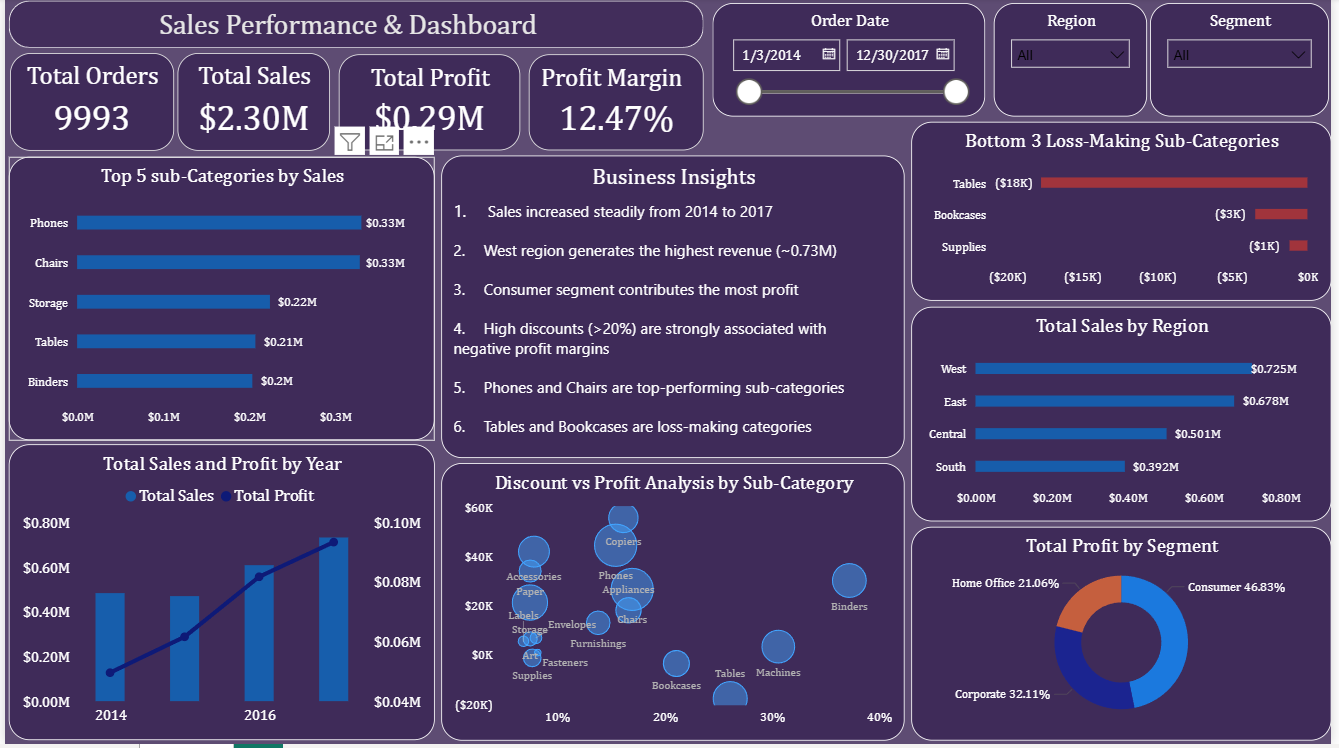

The page's visual inventory and layout, read from the dashboard file:
{"tool":"powerbi","page":{"name":"Page 1","canvas":[1280,720],"ordinal":0},"visuals":[{"type":"shape","box":[3.6,2.4,670.8,45.8],"z":0},{"type":"textbox","box":[22.9,4.8,616.5,44.6],"z":1000},{"type":"card","title":"Total Orders","fields":{"Values":["superstore dataset.Total Orders"]},"box":[4.8,53.1,158,94.1],"z":2000},{"type":"card","title":"Profit Margin","fields":{"Values":["superstore dataset.Profit Margin"]},"box":[505.5,54.3,168.9,92.9],"z":3000},{"type":"card","title":"Total Sales","fields":{"Values":["superstore dataset.Total Sales"]},"box":[166.5,53.1,147.2,94.1],"z":4000},{"type":"card","title":"Total Profit","fields":{"Values":["superstore dataset.Total Profit"]},"box":[322.1,54.3,174.9,92.9],"z":5000},{"type":"lineStackedColumnComboChart","title":"Total Sales and Profit by Year","fields":{"Category":["superstore dataset.Year"],"Y":["superstore dataset.Total Sales"],"Y2":["superstore dataset.Total Profit"]},"box":[3.6,430.7,411.4,285.9],"z":6000},{"type":"clusteredBarChart","title":"Top 5 sub-Categories by Sales","fields":{"Category":["superstore dataset.SubCategory"],"Y":["superstore dataset.Total Sales"]},"box":[3.6,153.2,411.4,273.9],"z":7000},{"type":"donutChart","fields":{"Category":["superstore dataset.Segment"],"Y":["superstore dataset.Total Profit"]},"box":[874.6,510.3,405.4,206.3],"z":8000},{"type":"clusteredBarChart","fields":{"Y":["superstore dataset.Total Sales"],"Category":["superstore dataset.Region"]},"box":[874.6,298,405.4,207.5],"z":9000},{"type":"scatterChart","title":"Discount vs Profit Analysis by Sub-Category","fields":{"X":["Avg(superstore dataset.Discount)"],"Y":["superstore dataset.Total Profit"],"Size":["superstore dataset.Total Sales"],"Category":["superstore dataset.SubCategory"]},"box":[421,448.8,447.6,267.8],"z":10000},{"type":"slicer","title":"Order Date","fields":{"Values":["superstore dataset.OrderDate"]},"box":[682.8,4.8,263,109.8],"z":11000},{"type":"slicer","title":"Region","fields":{"Values":["superstore dataset.Region"]},"box":[954.3,4.8,148.4,109.8],"z":12000},{"type":"slicer","title":"Segment","fields":{"Values":["superstore dataset.Segment"]},"box":[1105.1,4.8,172.5,109.8],"z":13000},{"type":"clusteredBarChart","title":"Bottom 3 Loss-Making Sub-Categories","fields":{"Category":["superstore dataset.SubCategory"],"Y":["superstore dataset.Loss Only"]},"box":[874.6,119.4,405.4,172.5],"z":14000},{"type":"textbox","title":"Business Insights","box":[421,152,447.6,292],"z":15000}]}

Visuals, with their boxes in screenshot pixels (x1, y1, x2, y2), scaled from the page's 1280x720 canvas onto the 1339x748 screenshot:
shape: rect(4, 2, 705, 50)
textbox: rect(24, 5, 669, 51)
"Total Orders" card: rect(5, 55, 170, 153)
"Profit Margin" card: rect(529, 56, 705, 153)
"Total Sales" card: rect(174, 55, 328, 153)
"Total Profit" card: rect(337, 56, 520, 153)
"Total Sales and Profit by Year" lineStackedColumnComboChart: rect(4, 447, 434, 744)
"Top 5 sub-Categories by Sales" clusteredBarChart: rect(4, 159, 434, 444)
donutChart - superstore dataset.Segment x superstore dataset.Total Profit: rect(915, 530, 1338, 744)
clusteredBarChart - superstore dataset.Total Sales x superstore dataset.Region: rect(915, 310, 1338, 525)
"Discount vs Profit Analysis by Sub-Category" scatterChart: rect(440, 466, 909, 744)
"Order Date" slicer: rect(714, 5, 989, 119)
"Region" slicer: rect(998, 5, 1154, 119)
"Segment" slicer: rect(1156, 5, 1336, 119)
"Bottom 3 Loss-Making Sub-Categories" clusteredBarChart: rect(915, 124, 1338, 303)
"Business Insights" textbox: rect(440, 158, 909, 461)
